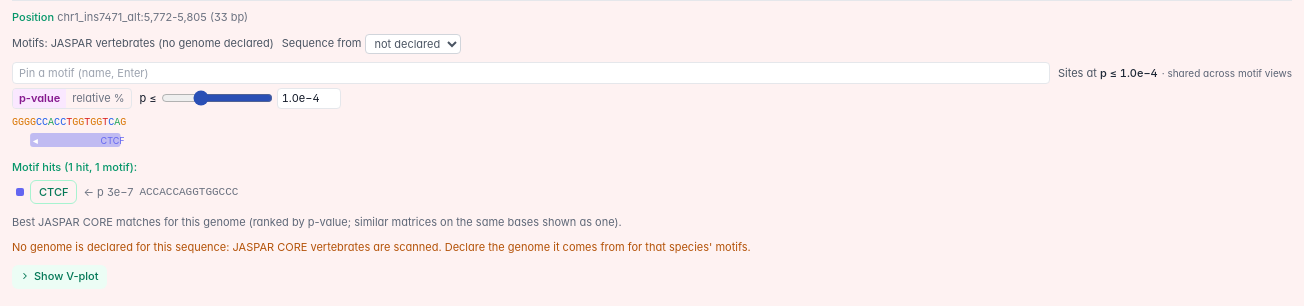
Test: Class card motifs on an expanded insert or a custom FASTA › a custom FASTA falls back to vertebrates with a note, and declaring hg38 rescans with human
Select "hg38" in the dropdown labelled "Sequence from". click: (414, 44)
box: left=366, top=34, right=462, bottom=54
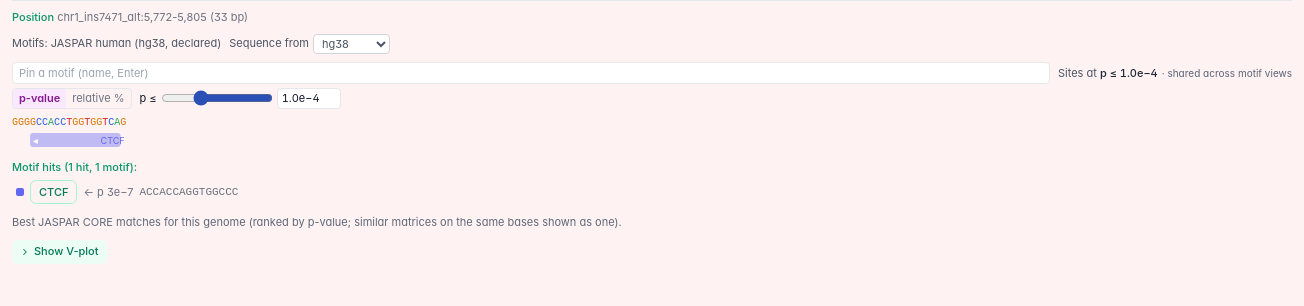
Now the text "No genome is declared for this sequence: JASPAR CORE vertebrates are scanned. Declare the genome it comes from for that species' motifs." is gone
